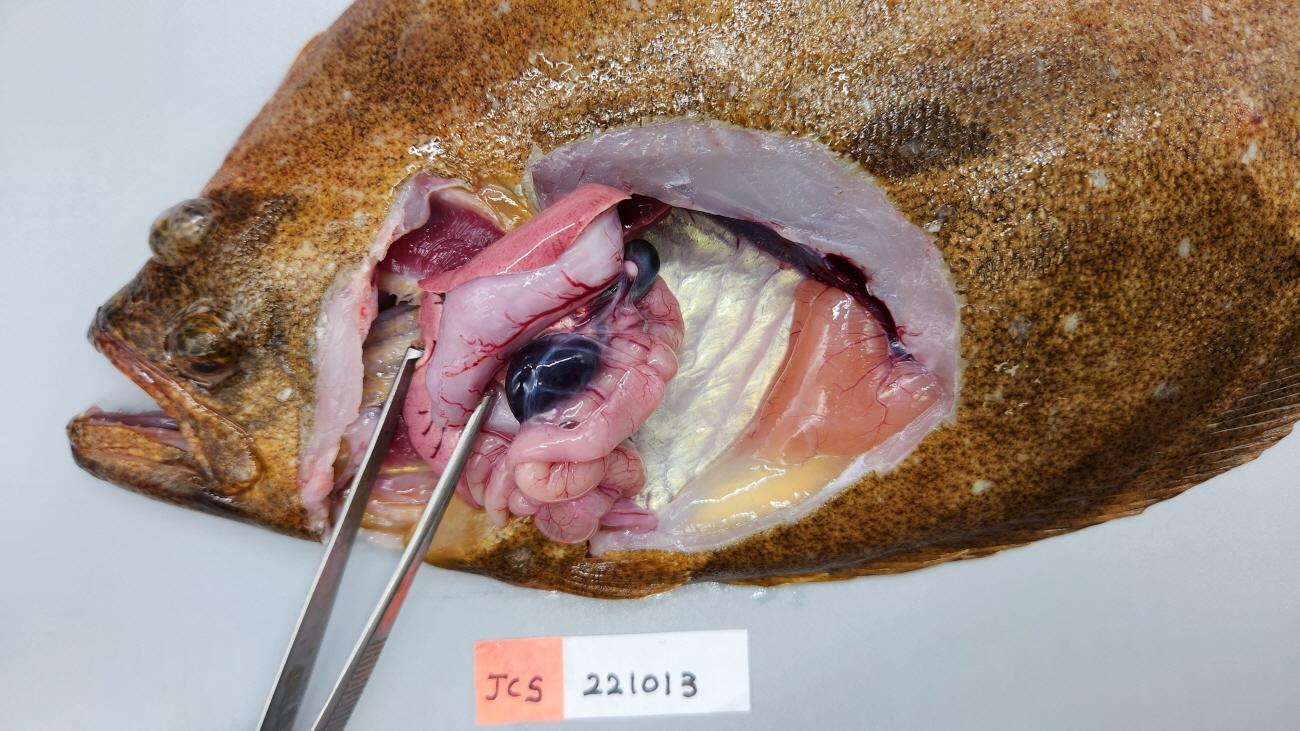VISPE: (513, 331, 597, 414)
